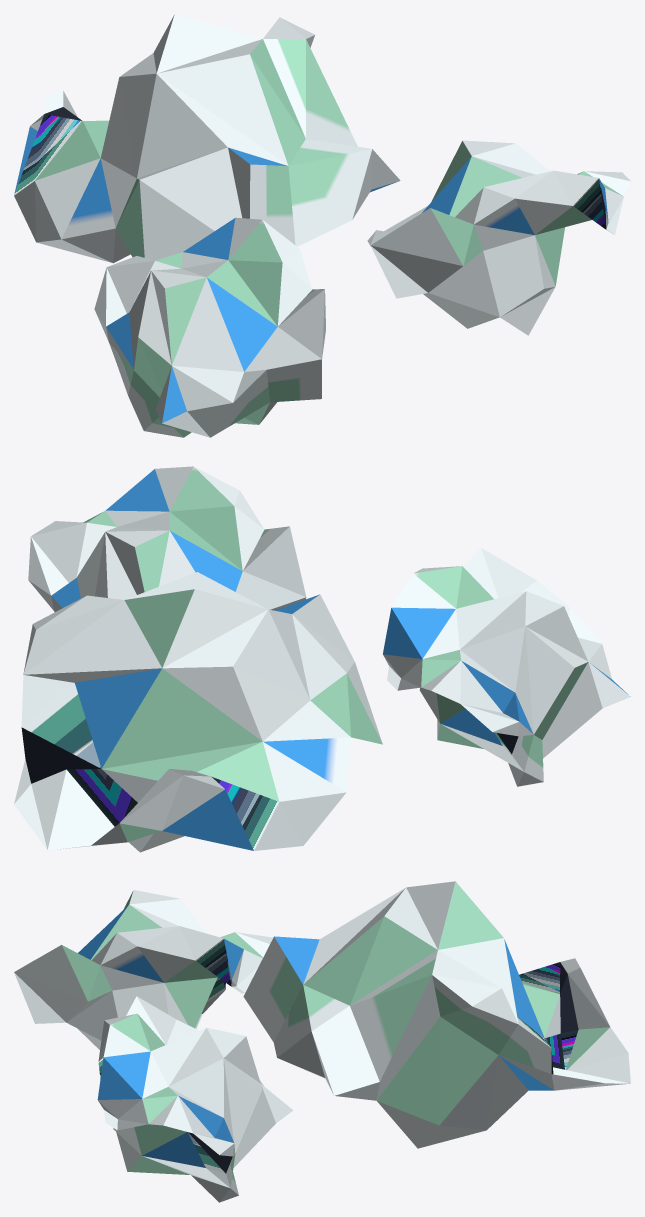
The model's file is Trash_Paper_Three.fbx.
3 renders of one model, top to bottom at view 1: azimuth 30°, elevation 25°; view 2: azimuth 150°, elevation 25°; view 3: azimuth 270°, elevation 25°, orthographic. The views are drawn at different scales.
Visible parts, largest first — view 1: Plane.017; view 2: Plane.017; view 3: Plane.017.
Part boxes in pixels (x1=…): Plane.017: x1=14, y1=14, x2=630, y2=437; Plane.017: x1=14, y1=466, x2=630, y2=852; Plane.017: x1=14, y1=881, x2=630, y2=1202.
Bounding box in the file's own units: 36.6 × 17.88 × 40.79.
